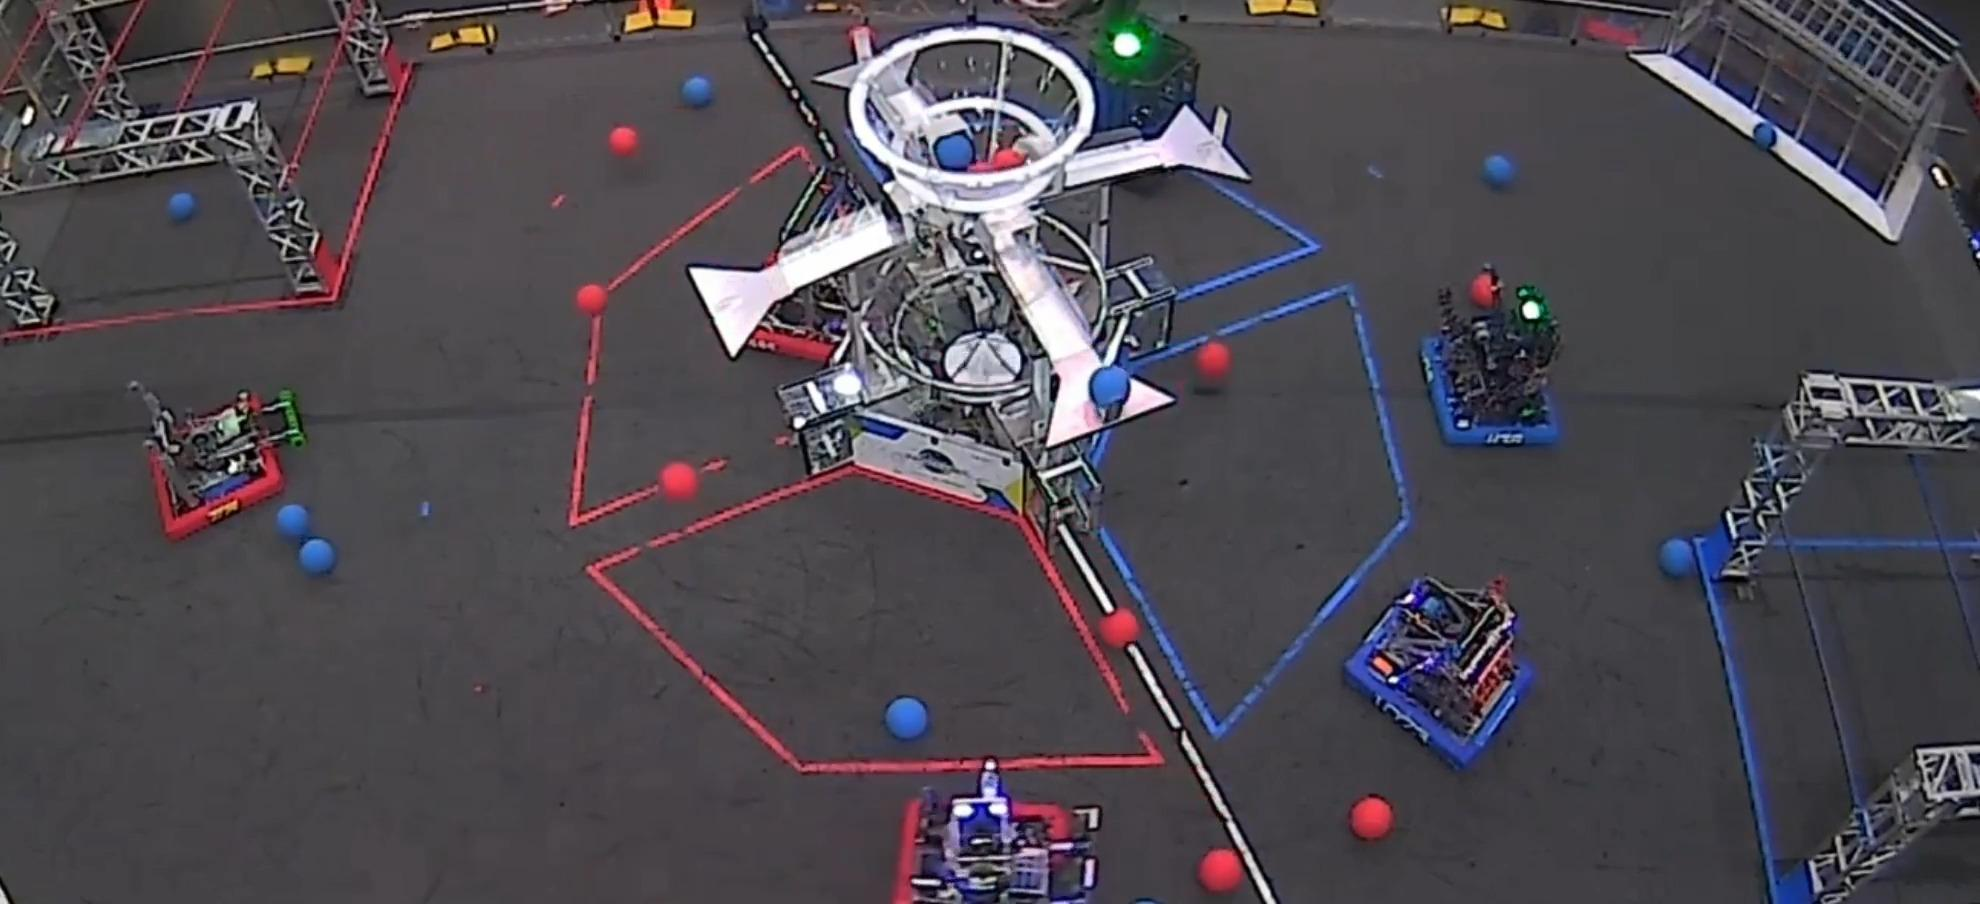Robots: (1345, 577, 1532, 768), (129, 383, 306, 538), (907, 761, 1097, 903), (1438, 265, 1560, 429), (756, 172, 862, 352), (1090, 16, 1196, 179)
